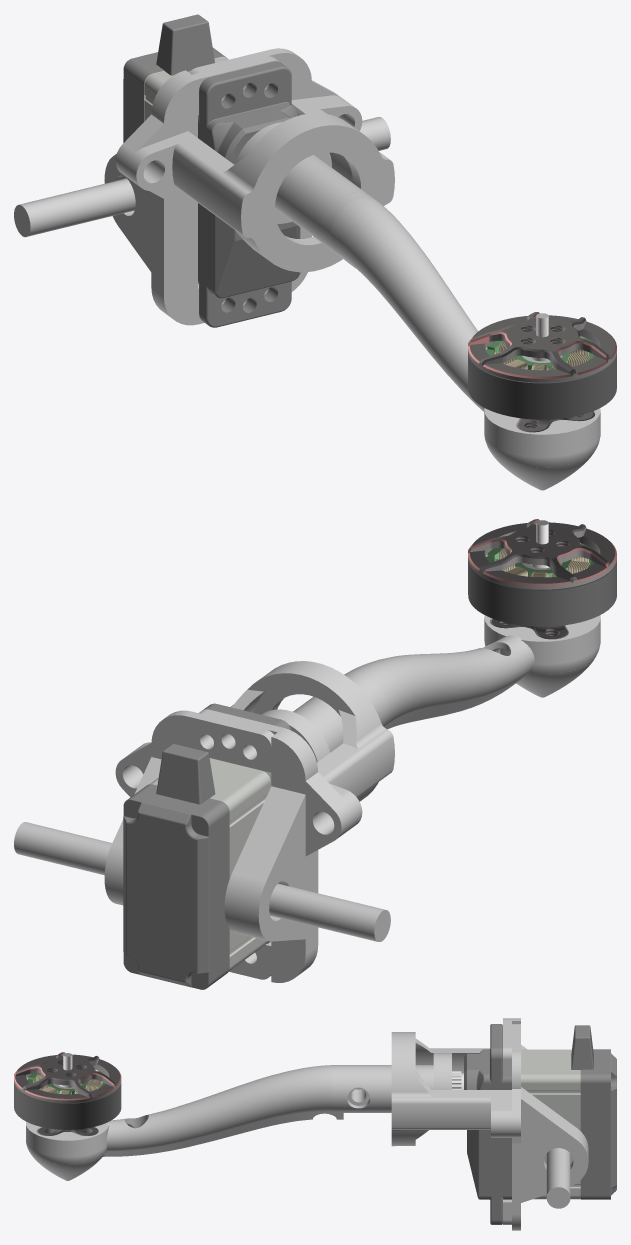
File: Arm.gltf
The picture shows the model from 3 angles, top to bottom: view 1: azimuth 30°, elevation 25°; view 2: azimuth 150°, elevation 25°; view 3: azimuth 270°, elevation 25°; orthographic projection. The views are drawn at different scales.
Parts seen in each view (by area): view 1: TURNIGY TGY-210DMH v1, Arm Holder, Motor-mount, Deployer (×2), 1404 motor (×2), Attachmnet Rod, Arm, Bottom; view 2: TURNIGY TGY-210DMH v1, Deployer (×2), 1404 motor (×2), Motor-mount, Arm Holder, Attachmnet Rod, Arm, Bottom; view 3: TURNIGY TGY-210DMH v1, Motor-mount, Arm Holder, 1404 motor (×2), Deployer (×2), Arm, Attachmnet Rod, Bottom.
Part boxes in pixels (left/top/right/bottom): TURNIGY TGY-210DMH v1: left=123, top=14, right=300, bottom=327; Arm Holder: left=128, top=95, right=394, bottom=272; Motor-mount: left=322, top=192, right=600, bottom=467; Deployer (×2): left=104, top=48, right=339, bottom=325; 1404 motor (×2): left=468, top=312, right=616, bottom=432; Attachmnet Rod: left=14, top=117, right=390, bottom=237; Arm: left=235, top=122, right=368, bottom=248; Bottom: left=490, top=451, right=594, bottom=490; TURNIGY TGY-210DMH v1: left=123, top=703, right=291, bottom=989; Deployer (×2): left=104, top=709, right=353, bottom=982; 1404 motor (×2): left=468, top=519, right=616, bottom=639; Motor-mount: left=344, top=615, right=600, bottom=729; Arm Holder: left=129, top=661, right=394, bottom=828; Attachmnet Rod: left=14, top=822, right=390, bottom=941; Arm: left=261, top=680, right=379, bottom=762; Bottom: left=504, top=658, right=594, bottom=697; TURNIGY TGY-210DMH v1: left=452, top=1024, right=616, bottom=1224; Motor-mount: left=26, top=1065, right=366, bottom=1164; Arm Holder: left=391, top=1032, right=511, bottom=1146; 1404 motor (×2): left=14, top=1052, right=121, bottom=1135; Deployer (×2): left=503, top=1018, right=588, bottom=1230; Arm: left=343, top=1053, right=451, bottom=1112; Attachmnet Rod: left=546, top=1148, right=570, bottom=1208; Bottom: left=30, top=1152, right=126, bottom=1180.
Bounding box in the file's own units: 5 × 3.34 × 10.04.
